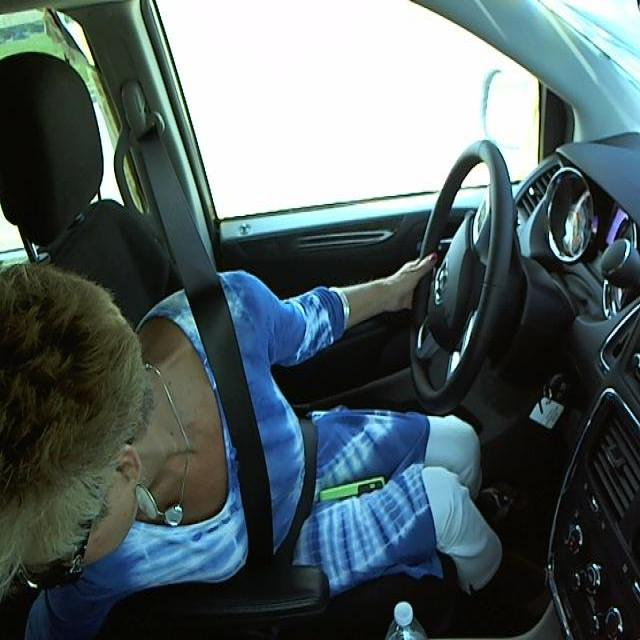seatbelt: (148, 172, 323, 548)
